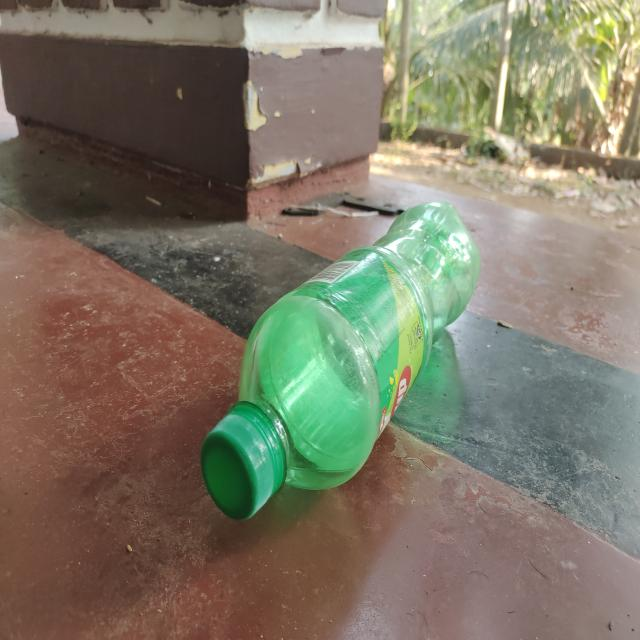plastic: (194, 195, 483, 525)
